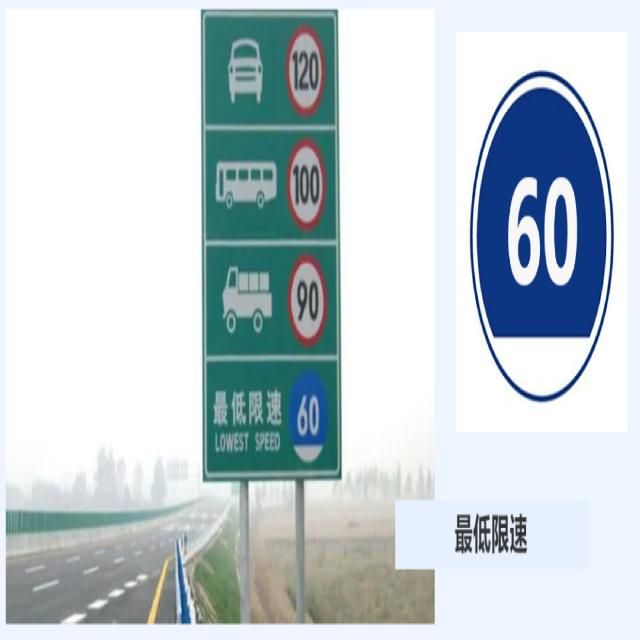speed limit 100: (286, 136, 326, 231)
speed limit 120: (286, 25, 327, 115)
speed limit 60: (470, 73, 614, 406), (288, 370, 327, 464)
speed limit 90: (288, 256, 328, 348)
